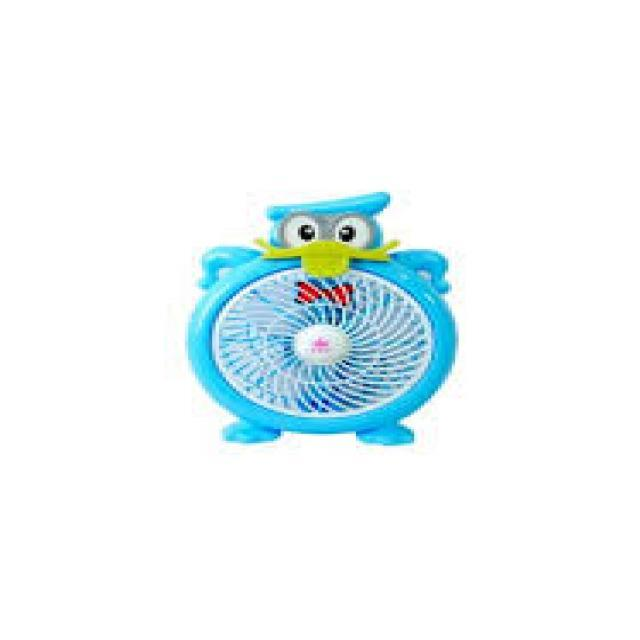fan: (166, 171, 512, 483)
